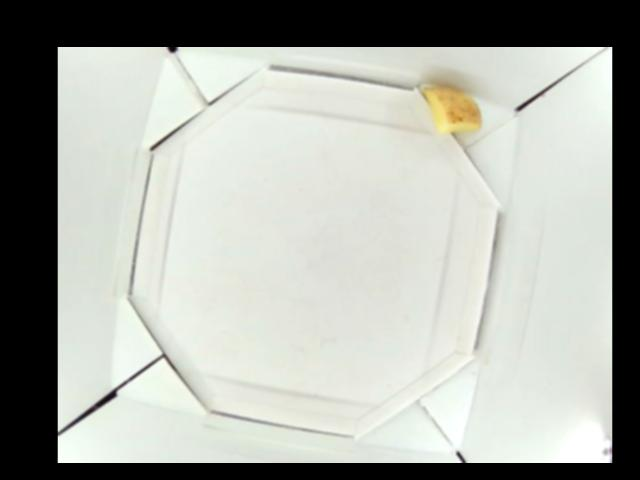Potato: (421, 86, 482, 131)
